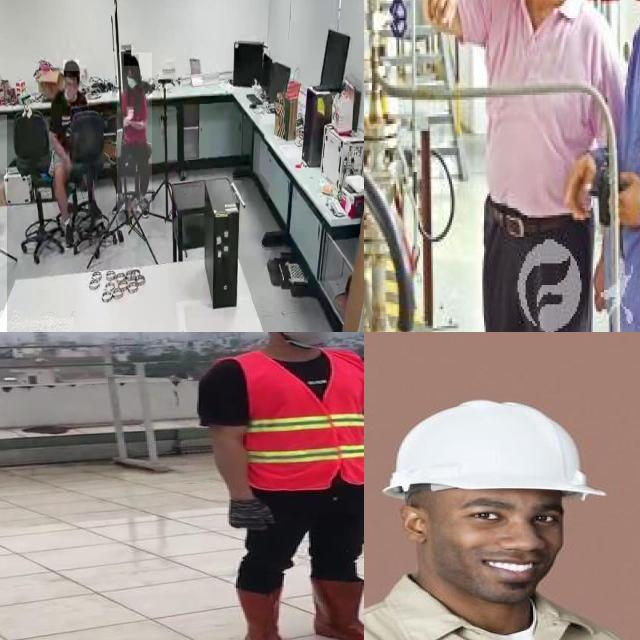No_Ear-Protection: (393, 398, 588, 603)
boots: (232, 584, 307, 640), (312, 574, 364, 640)
face_nomask: (63, 78, 77, 100)
hand_noglove: (126, 107, 134, 119), (125, 118, 132, 126)
head_nohelmet: (124, 54, 140, 67), (63, 60, 79, 72)
person: (186, 332, 364, 640), (46, 60, 106, 242), (117, 52, 153, 212)
vest: (223, 348, 364, 490)
